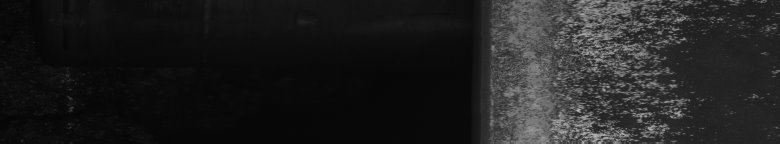kb: (500, 4, 660, 136)
